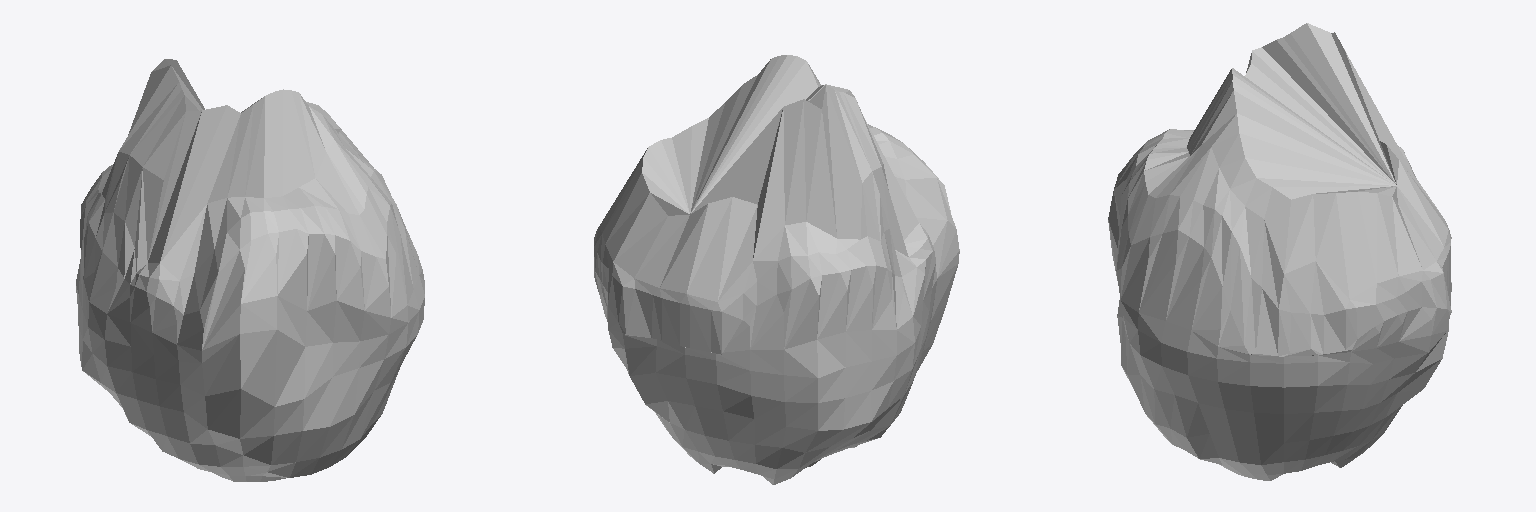
File: Mineral.obj
The picture shows the model from 3 angles: view 1: azimuth 30°, elevation 25°; view 2: azimuth 150°, elevation 25°; view 3: azimuth 270°, elevation 25°; orthographic projection.
Parts seen in each view (by area): view 1: Emcion; view 2: Emcion; view 3: Emcion.
Part boxes in pixels (x1,y1,x2,y2): Emcion: (76, 59, 424, 481); Emcion: (594, 55, 959, 484); Emcion: (1108, 23, 1451, 480).
Bounding box in the file's own units: 0.9818 × 1.25 × 0.9797.